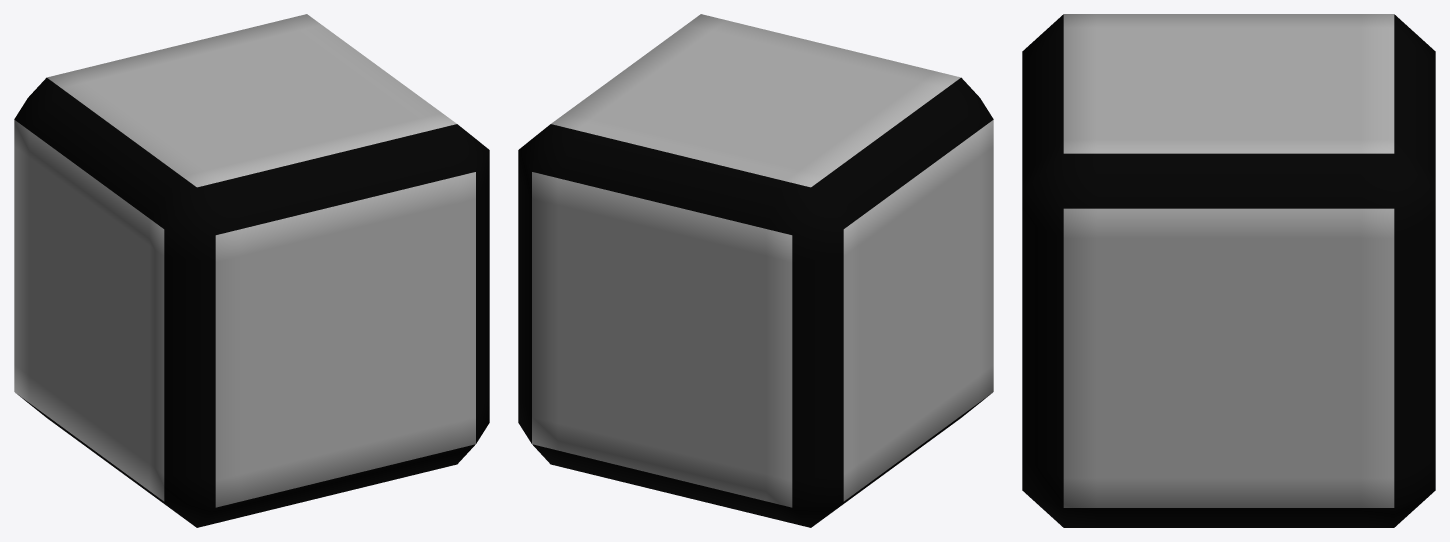
The model's file is SubdividedTetrisBlock2.fbx.
3 renders of one model, left to right at view 1: azimuth 30°, elevation 25°; view 2: azimuth 150°, elevation 25°; view 3: azimuth 270°, elevation 25°, orthographic. The views are drawn at different scales.
Parts seen in each view (by area): view 1: Cube; view 2: Cube; view 3: Cube.
Boxes of the visible parts, x1,y1,x2,y2 form: Cube: [14, 14, 489, 527]; Cube: [518, 14, 993, 527]; Cube: [1022, 14, 1435, 527].
Size of the model in its own units: 100 by 100 by 100.
